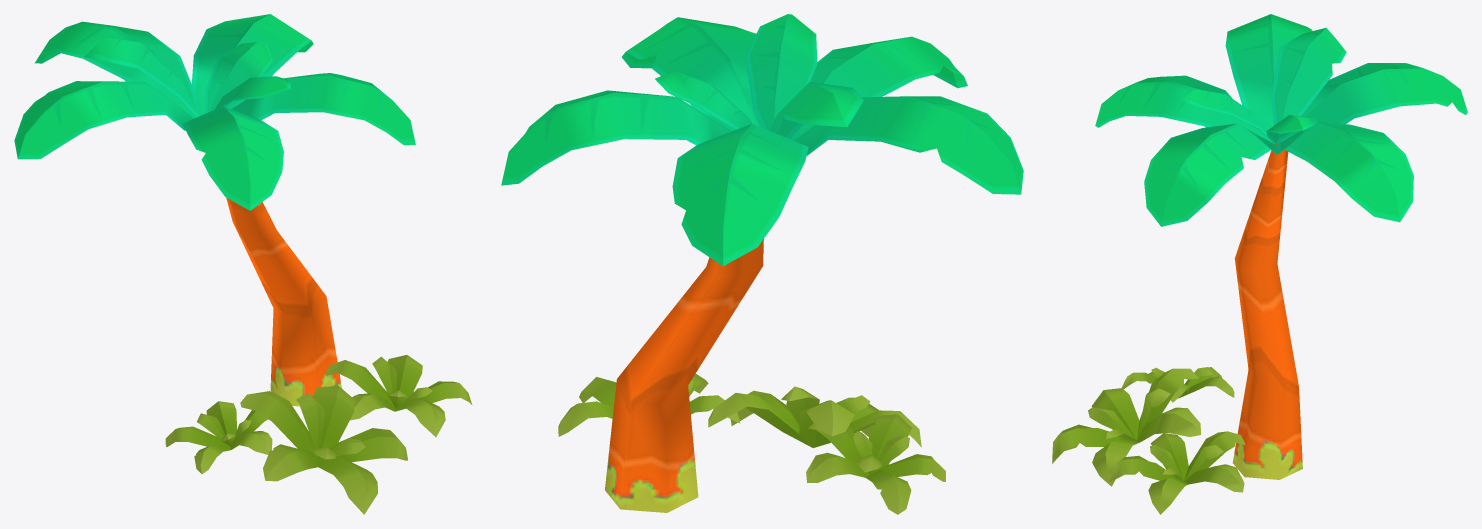
The model's file is tree3.glb.
3 views of the same model, side by side, from view 1: azimuth 30°, elevation 25°; view 2: azimuth 150°, elevation 25°; view 3: azimuth 270°, elevation 25° (orthographic). The views are drawn at different scales.
Visible parts, largest first — view 1: bgr_jungle_tree_top_11.004_palm_tree.001_0, bgr_island_brawl_ball_props_right.037_grass_2.001_0.002, bgr_island_brawl_ball_props_right.037_grass_2.001_0, bgr_island_brawl_ball_props_right.037_grass_2.001_0.001; view 2: bgr_jungle_tree_top_11.004_palm_tree.001_0, bgr_island_brawl_ball_props_right.037_grass_2.001_0.001, bgr_island_brawl_ball_props_right.037_grass_2.001_0.002, bgr_island_brawl_ball_props_right.037_grass_2.001_0; view 3: bgr_jungle_tree_top_11.004_palm_tree.001_0, bgr_island_brawl_ball_props_right.037_grass_2.001_0.002, bgr_island_brawl_ball_props_right.037_grass_2.001_0, bgr_island_brawl_ball_props_right.037_grass_2.001_0.001.
Boxes of the visible parts, <box> form: bgr_jungle_tree_top_11.004_palm_tree.001_0: <box>14,14,415,406</box>; bgr_island_brawl_ball_props_right.037_grass_2.001_0.002: <box>240,384,407,514</box>; bgr_island_brawl_ball_props_right.037_grass_2.001_0: <box>325,355,472,437</box>; bgr_island_brawl_ball_props_right.037_grass_2.001_0.001: <box>165,401,272,474</box>; bgr_jungle_tree_top_11.004_palm_tree.001_0: <box>501,14,1023,512</box>; bgr_island_brawl_ball_props_right.037_grass_2.001_0.001: <box>806,414,945,514</box>; bgr_island_brawl_ball_props_right.037_grass_2.001_0.002: <box>708,386,921,447</box>; bgr_island_brawl_ball_props_right.037_grass_2.001_0: <box>558,373,740,436</box>; bgr_jungle_tree_top_11.004_palm_tree.001_0: <box>1095,14,1467,479</box>; bgr_island_brawl_ball_props_right.037_grass_2.001_0.002: <box>1052,368,1200,486</box>; bgr_island_brawl_ball_props_right.037_grass_2.001_0: <box>1109,431,1245,514</box>; bgr_island_brawl_ball_props_right.037_grass_2.001_0.001: <box>1121,367,1234,402</box>.
Bounding box in the file's own units: 5.1 × 4.91 × 4.84.
Materials: 2 (2 with a texture image).
